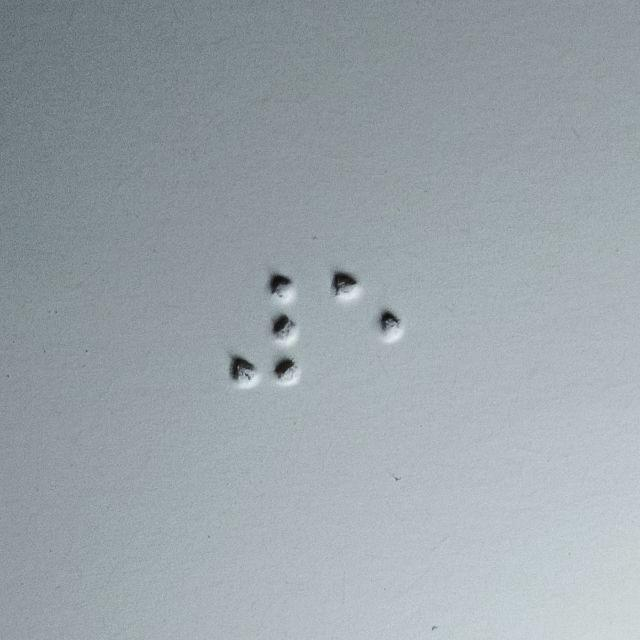5: (329, 269, 403, 386)
number: (227, 273, 300, 391)
